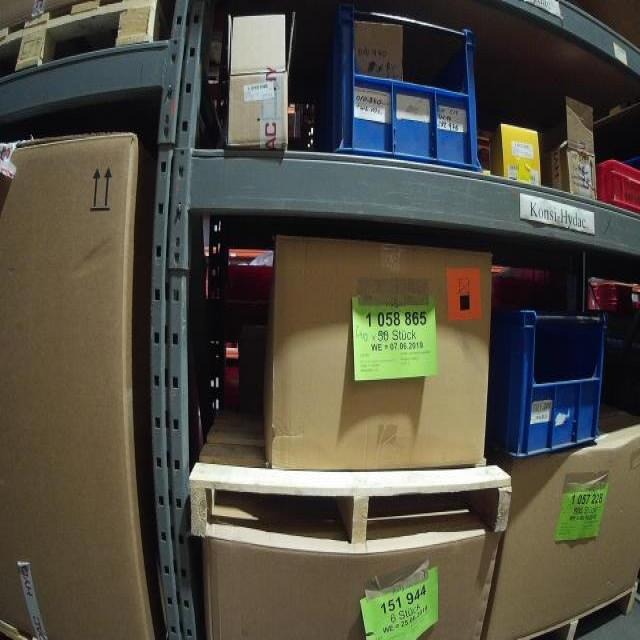pallet: (186, 407, 513, 557), (1, 0, 160, 81), (525, 583, 640, 640)
small_load_carrier: (318, 8, 490, 173), (492, 292, 614, 461), (590, 149, 639, 221)
